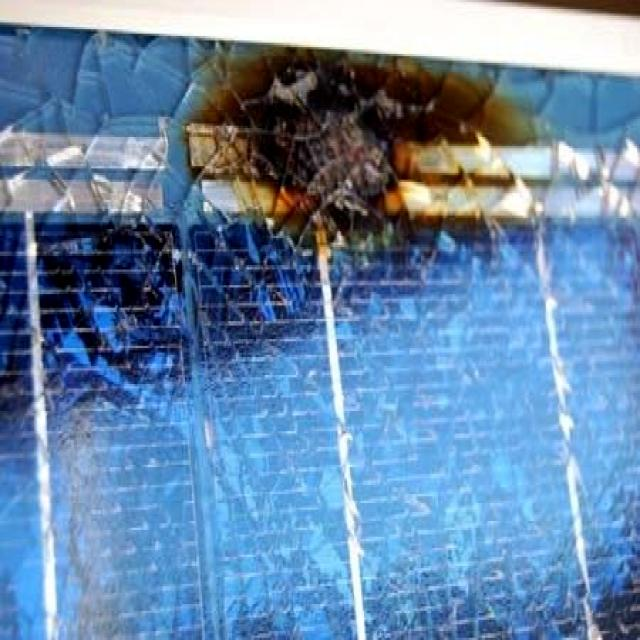shadow: (175, 38, 578, 287)
